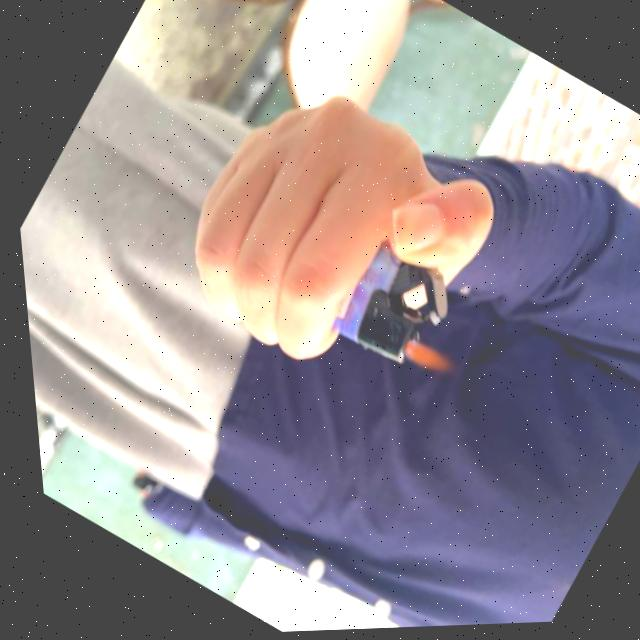Fire: (387, 333, 451, 388)
